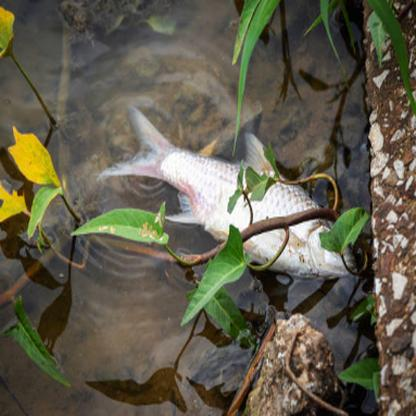deceased fish: (97, 97, 360, 281)
